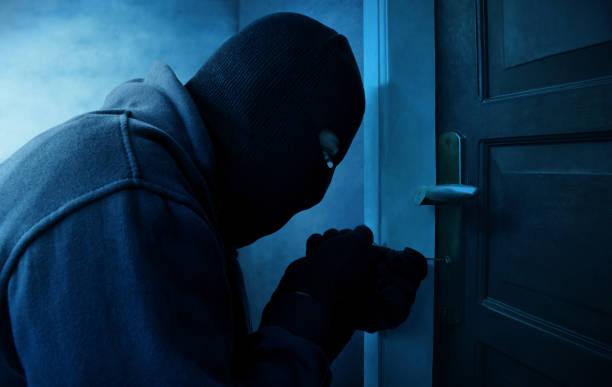terrorist: (96, 6, 488, 321)
